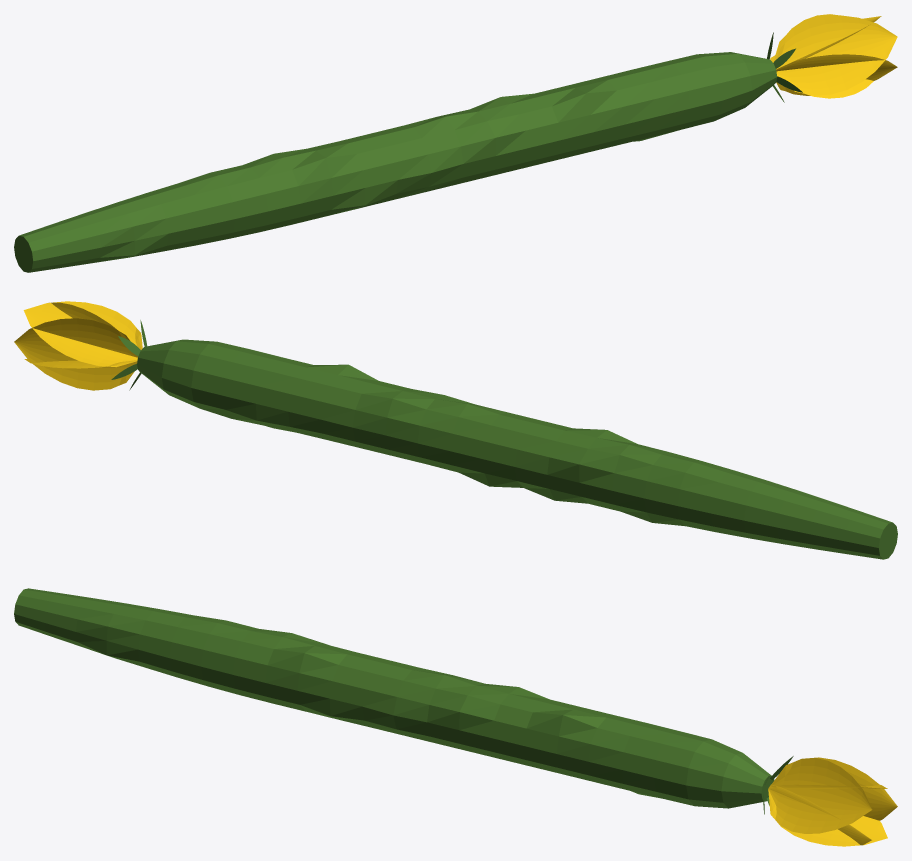
File: flower_closed_05.obj
The picture shows the model from 3 angles, top to bottom: view 1: azimuth 30°, elevation 25°; view 2: azimuth 150°, elevation 25°; view 3: azimuth 330°, elevation 25°; orthographic projection.
Bounding box in the file's own units: 0.8885 × 0.0774 × 0.0742.
Materials: 1 (1 with a texture image).
